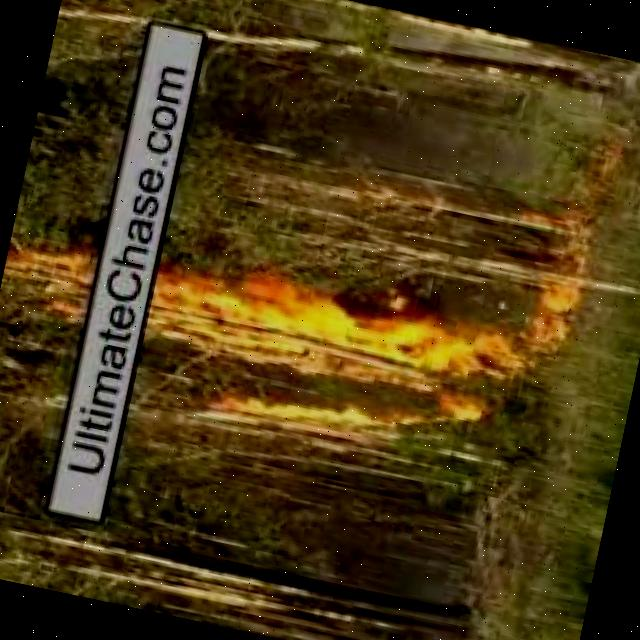fire: (150, 260, 511, 412), (207, 370, 424, 470), (532, 254, 585, 379), (10, 244, 93, 303)
